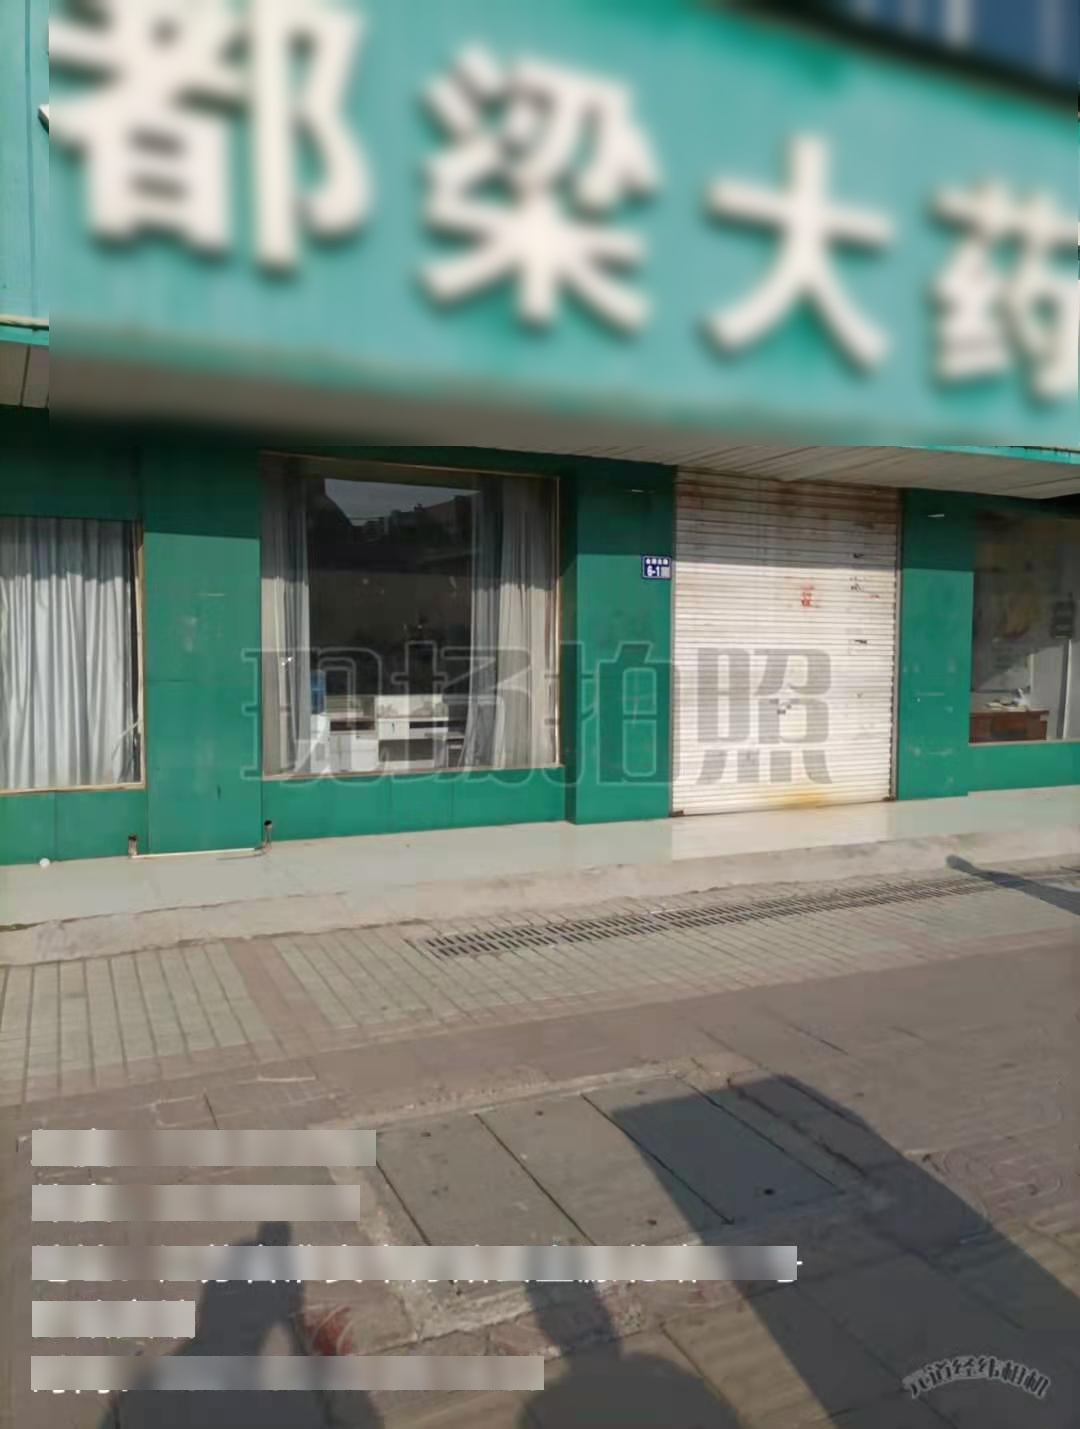good: (341, 1062, 866, 1318)
